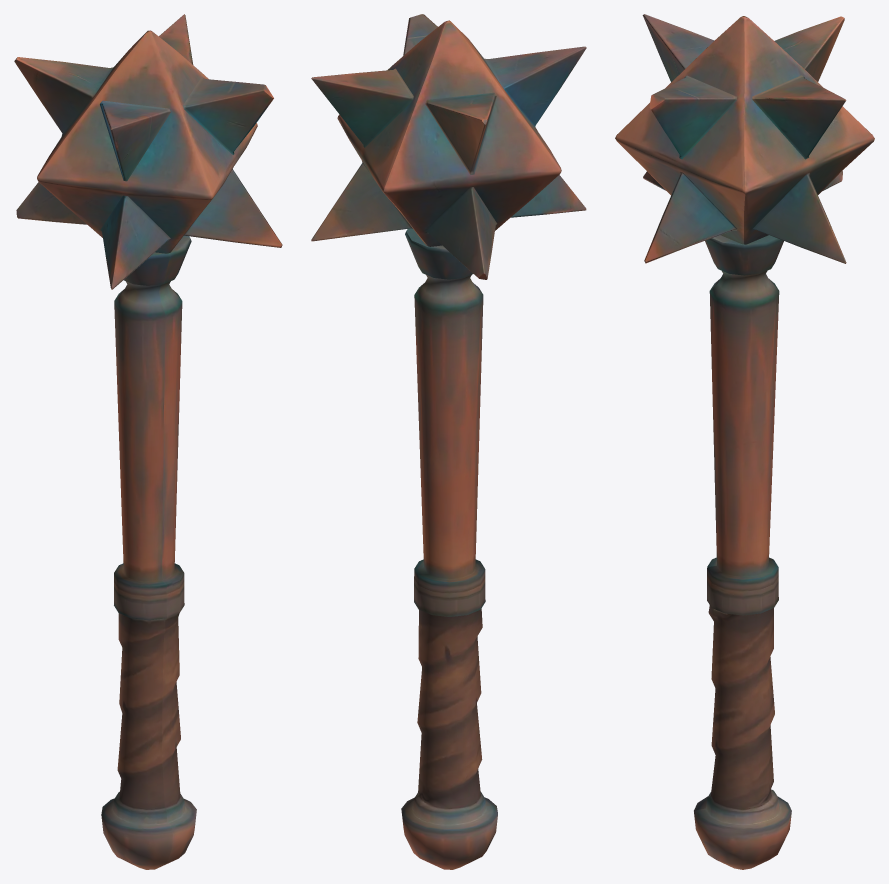
3 renders of one model, left to right at view 1: azimuth 30°, elevation 25°; view 2: azimuth 150°, elevation 25°; view 3: azimuth 270°, elevation 25°, orthographic.
Parts seen in each view (by area): view 1: SM_Mace_Bronze_1H_LOD0; view 2: SM_Mace_Bronze_1H_LOD0; view 3: SM_Mace_Bronze_1H_LOD0.
Part boxes in pixels (x1,y1,x2,y2): SM_Mace_Bronze_1H_LOD0: [14, 14, 282, 869]; SM_Mace_Bronze_1H_LOD0: [311, 14, 586, 869]; SM_Mace_Bronze_1H_LOD0: [615, 14, 874, 869].
Size of the model in its own units: 0.2366 by 0.8572 by 0.2373.
1 material, 1 textured.
